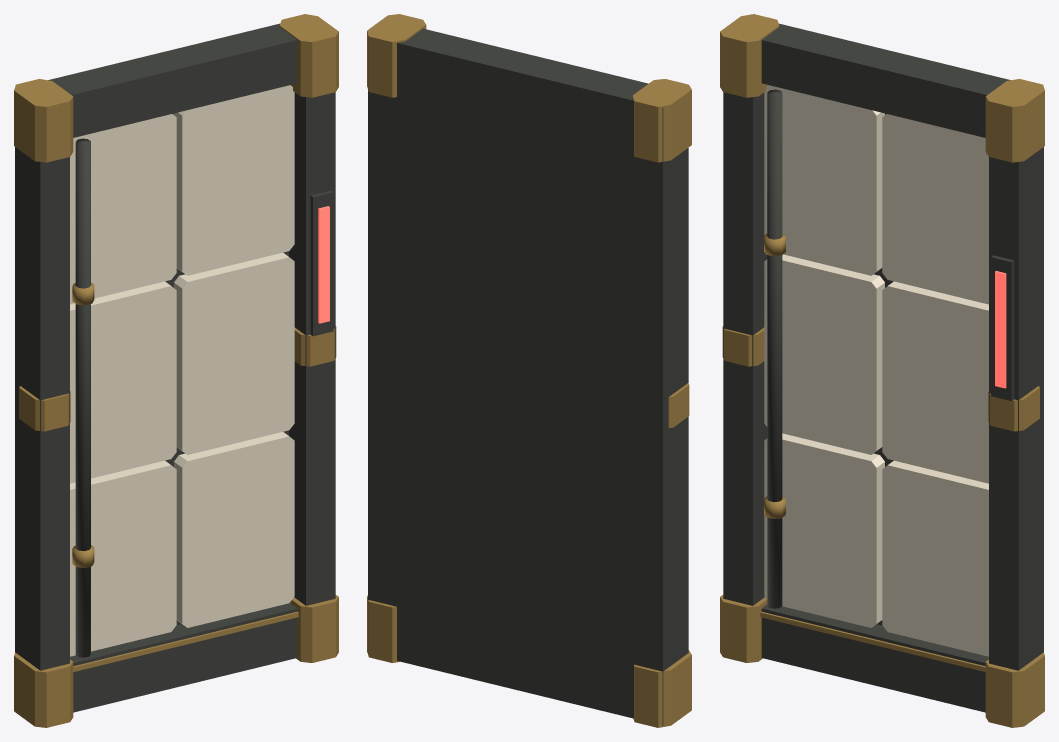
Rendered from b1_wall.glb.
3 renders of one model, left to right at view 1: azimuth 30°, elevation 25°; view 2: azimuth 150°, elevation 25°; view 3: azimuth 330°, elevation 25°, orthographic.
Parts seen in each view (by area): view 1: b1_wall; view 2: b1_wall; view 3: b1_wall.
Part boxes in pixels (x1=…): b1_wall: x1=14, y1=14, x2=338, y2=727; b1_wall: x1=367, y1=14, x2=691, y2=727; b1_wall: x1=720, y1=14, x2=1044, y2=727.
Size of the model in its own units: 2.06 by 4.02 by 0.3675.
